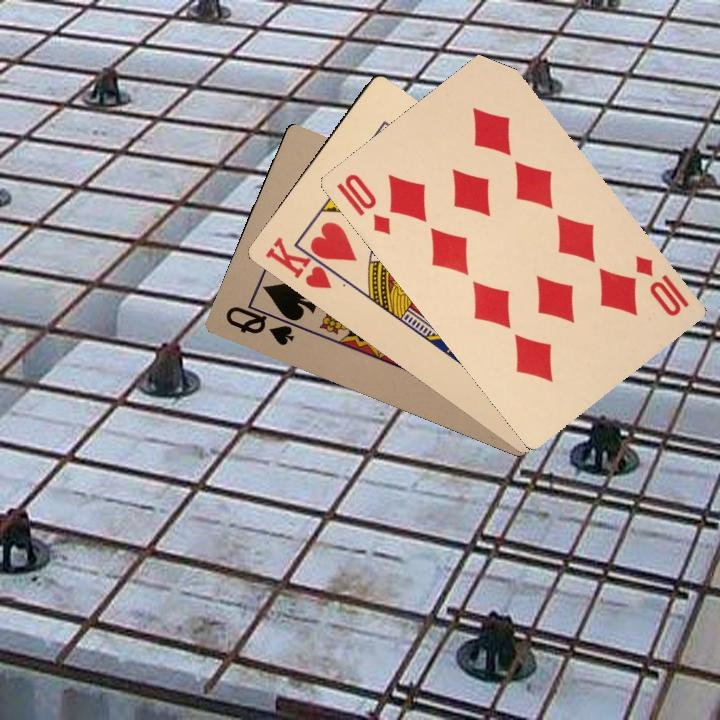10d: (630, 250, 692, 320), (332, 169, 394, 238)
Kh: (261, 232, 343, 292)
Qs: (221, 301, 303, 348)
